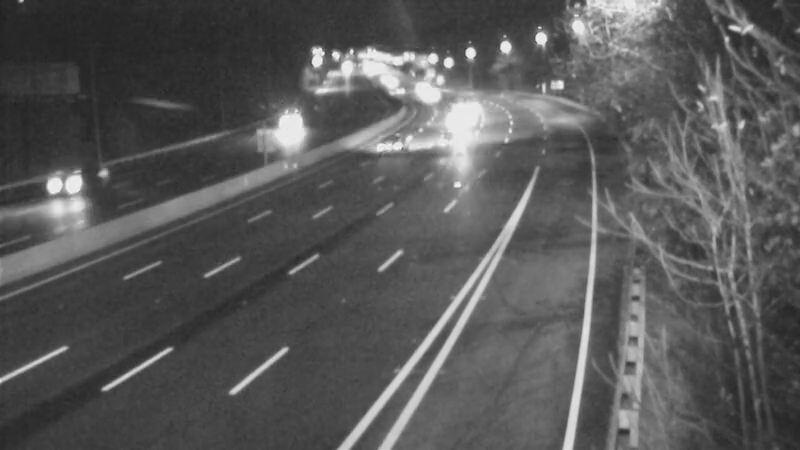vehicle: (34, 134, 114, 214), (393, 61, 443, 111), (376, 71, 426, 121), (402, 70, 452, 120), (444, 82, 494, 132), (434, 97, 484, 147), (423, 116, 473, 166), (364, 117, 414, 167), (261, 100, 311, 150)
